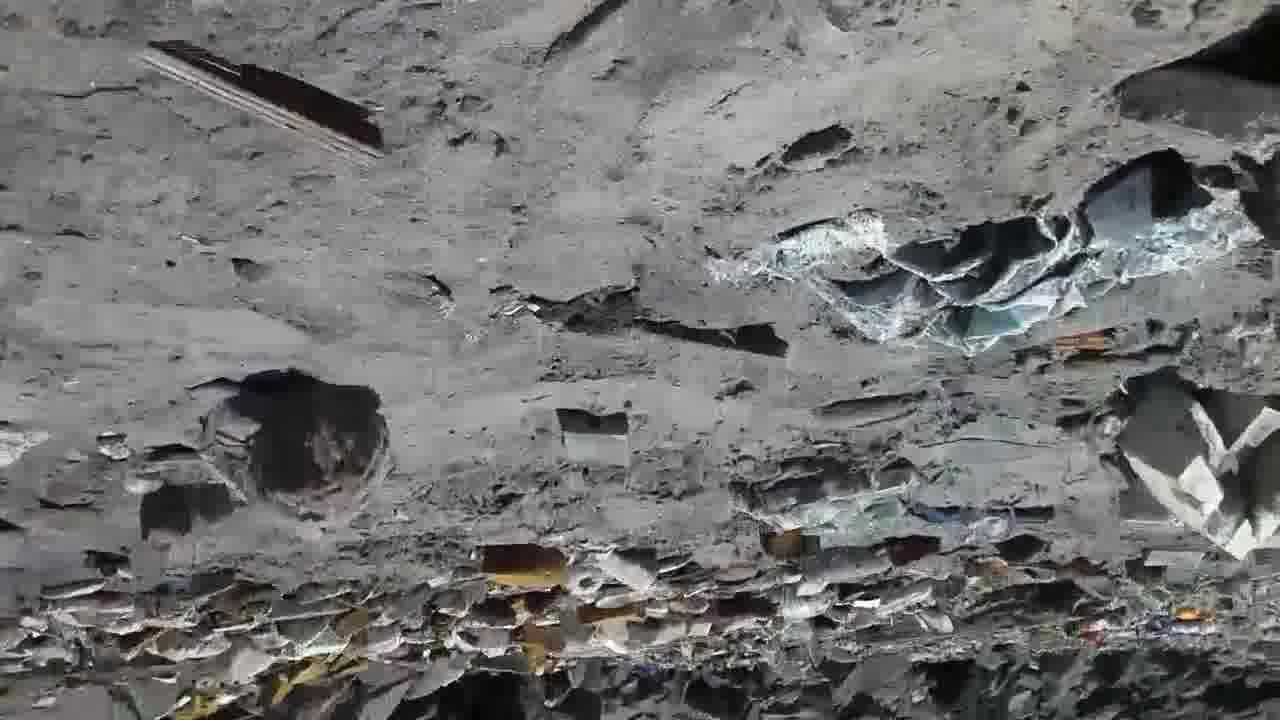obj: (812, 150, 1260, 346), (56, 584, 516, 682), (134, 38, 382, 168), (1119, 380, 1279, 557), (214, 378, 396, 532), (538, 292, 792, 392), (738, 466, 1011, 552), (767, 549, 999, 634), (702, 213, 892, 288), (598, 554, 711, 602), (592, 609, 714, 649), (482, 545, 578, 587), (1, 416, 50, 473), (508, 622, 564, 660), (34, 580, 108, 594)
sand/background: (0, 622, 1279, 719)
